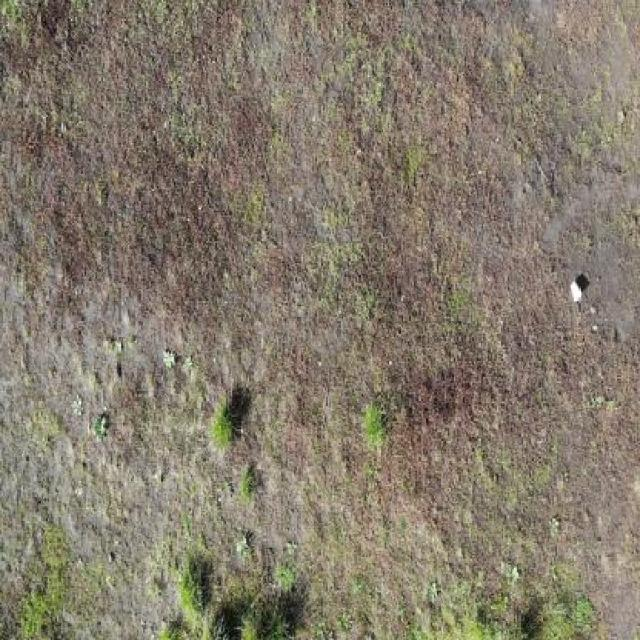Garbage: (569, 279, 583, 303)
